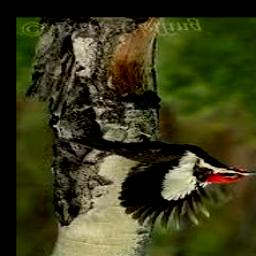Woodpecker: (61, 132, 256, 231)
